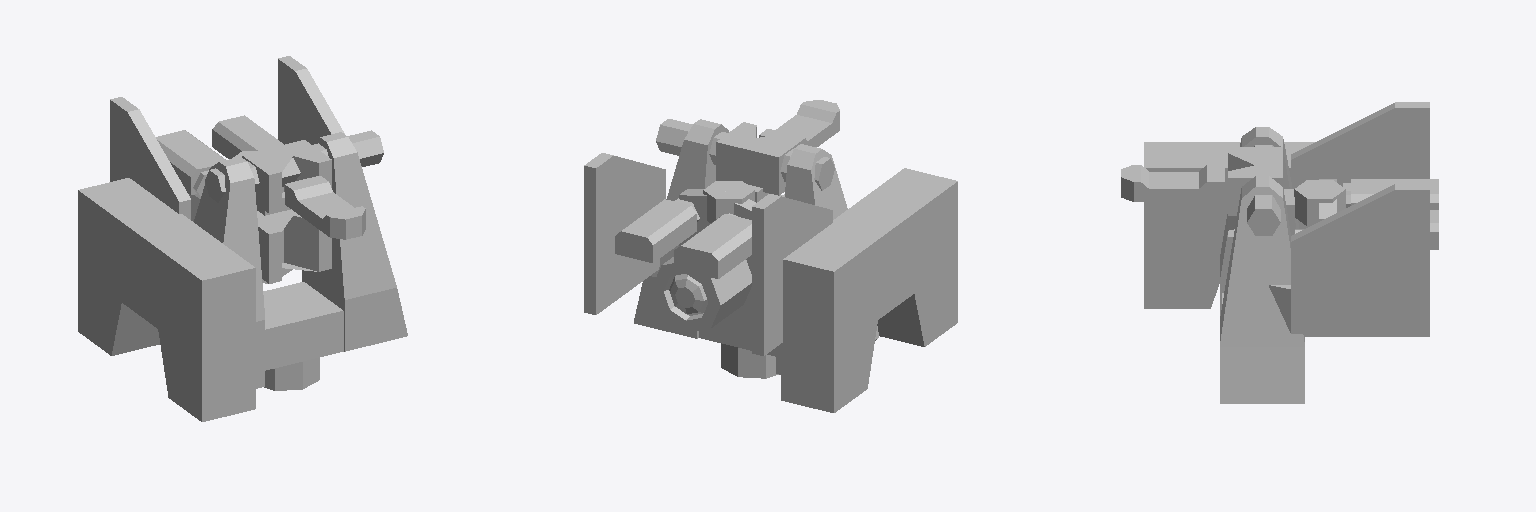
File: MGBase.obj
3 renders of one model, left to right at view 1: azimuth 30°, elevation 25°; view 2: azimuth 150°, elevation 25°; view 3: azimuth 270°, elevation 25°, orthographic.
Visible parts, largest first — view 1: Cube.023; view 2: Cube.023; view 3: Cube.023.
Boxes of the visible parts, x1=… form: Cube.023: x1=78, y1=56, x2=407, y2=421; Cube.023: x1=584, y1=100, x2=957, y2=412; Cube.023: x1=1121, y1=102, x2=1438, y2=403.
Bounding box in the file's own units: 0.9016 × 0.8399 × 1.01.